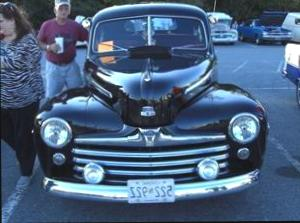License_Plate: (129, 178, 177, 203)
